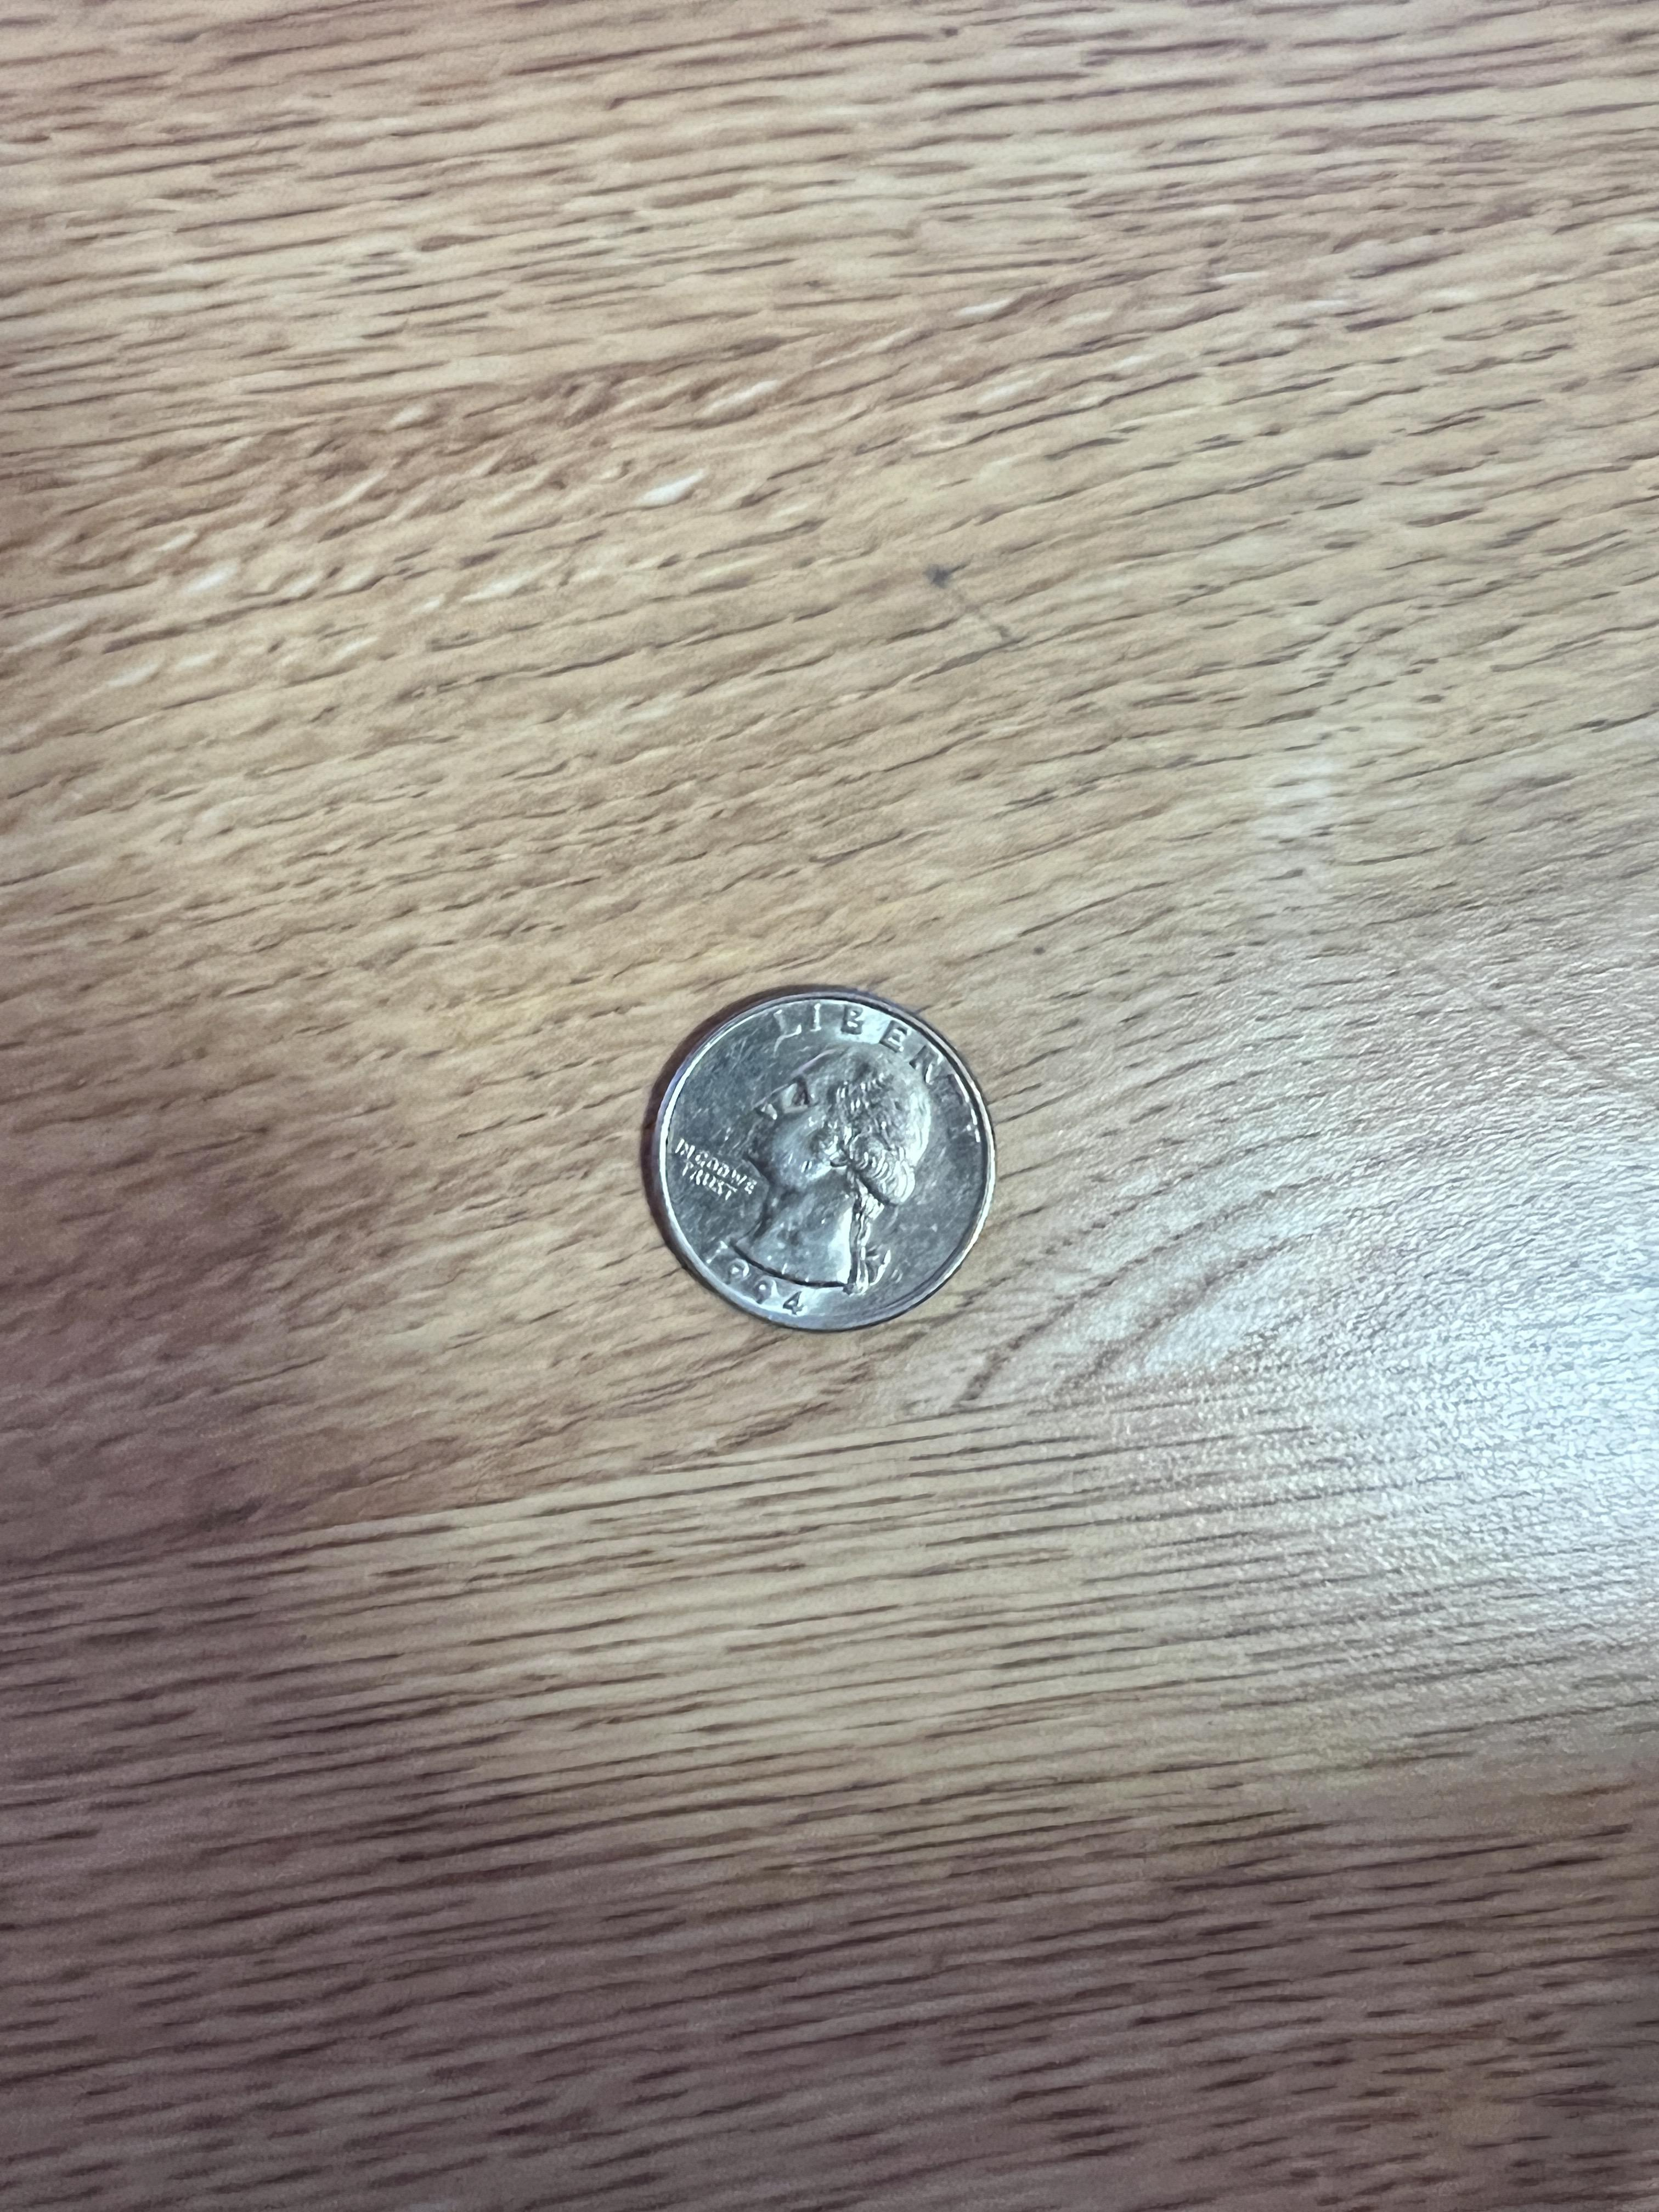Quarter: (636, 977, 1006, 1339)
